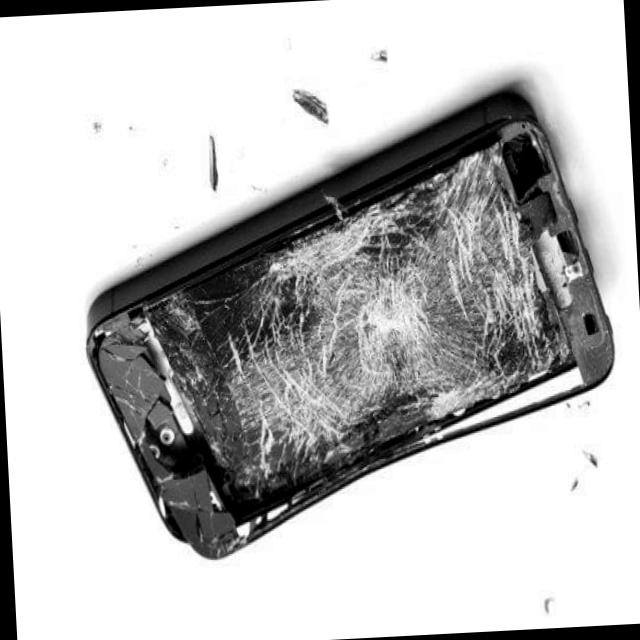Crack: (82, 66, 618, 593)
